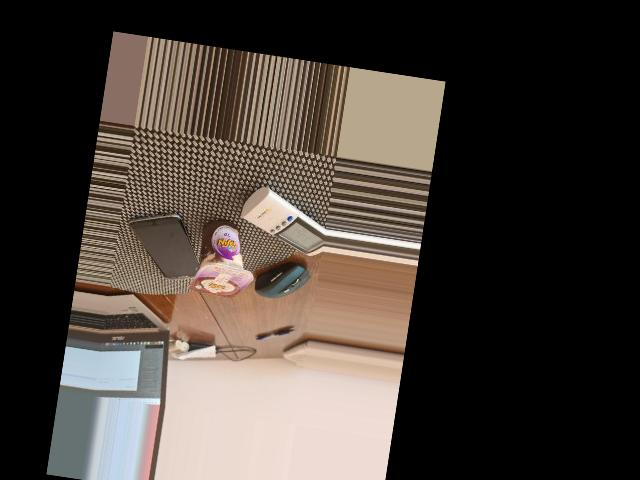milky: (186, 216, 254, 300)
